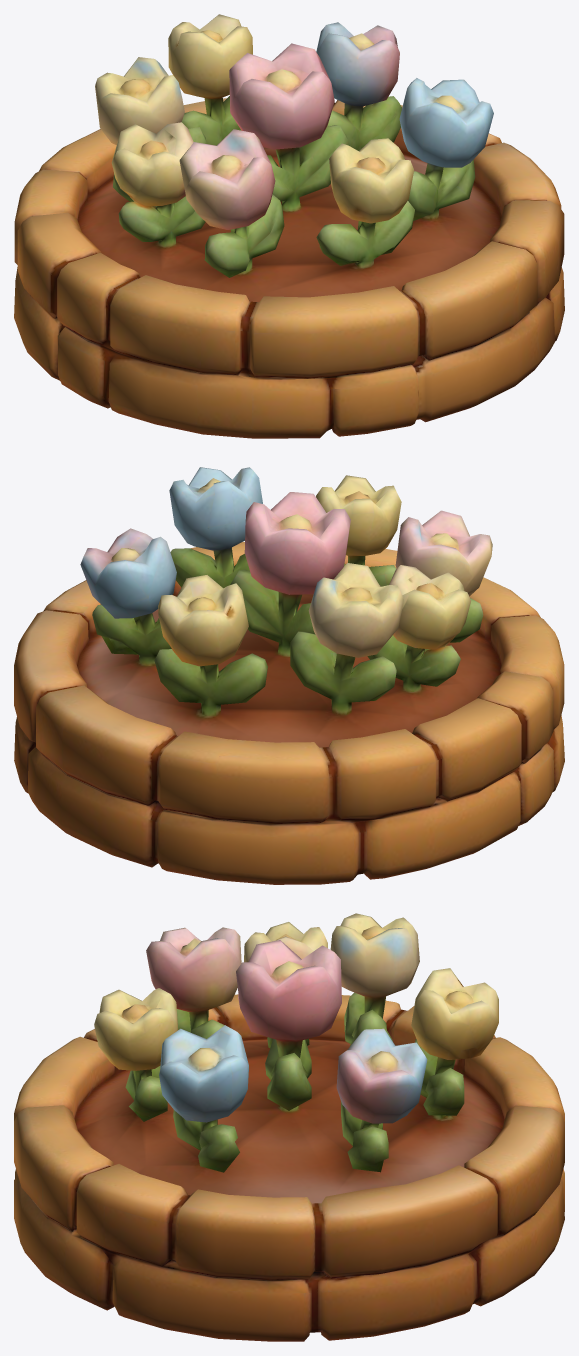
The model's file is flower-bed.glb.
3 views of the same model, one above another, from view 1: azimuth 30°, elevation 25°; view 2: azimuth 150°, elevation 25°; view 3: azimuth 270°, elevation 25° (orthographic).
Parts seen in each view (by area): view 1: tripo_node_56b5e337-8dee-487d-99f4-3f7bc0efc878; view 2: tripo_node_56b5e337-8dee-487d-99f4-3f7bc0efc878; view 3: tripo_node_56b5e337-8dee-487d-99f4-3f7bc0efc878.
Part boxes in pixels (left/top/right/bottom): tripo_node_56b5e337-8dee-487d-99f4-3f7bc0efc878: left=14, top=14, right=564, bottom=438; tripo_node_56b5e337-8dee-487d-99f4-3f7bc0efc878: left=14, top=467, right=564, bottom=884; tripo_node_56b5e337-8dee-487d-99f4-3f7bc0efc878: left=14, top=913, right=564, bottom=1341.
Size of the model in its own units: 0.9983 by 0.5431 by 0.9944.
Materials: 1 (1 with a texture image).
